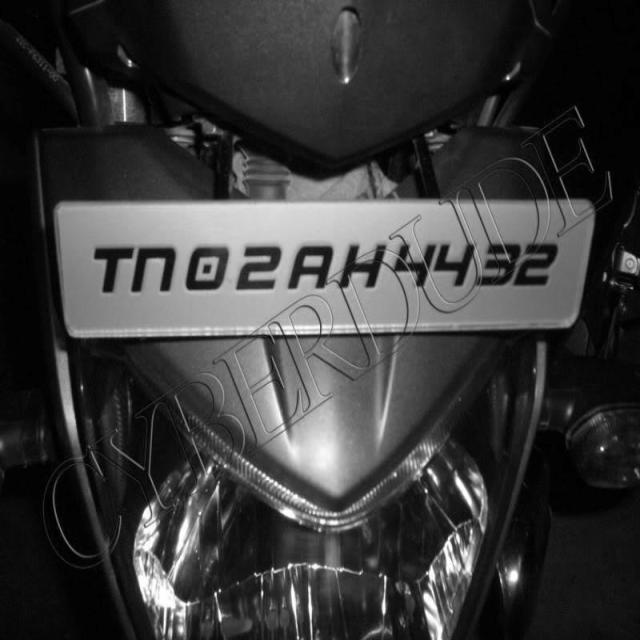license-plate: (66, 210, 586, 323)
